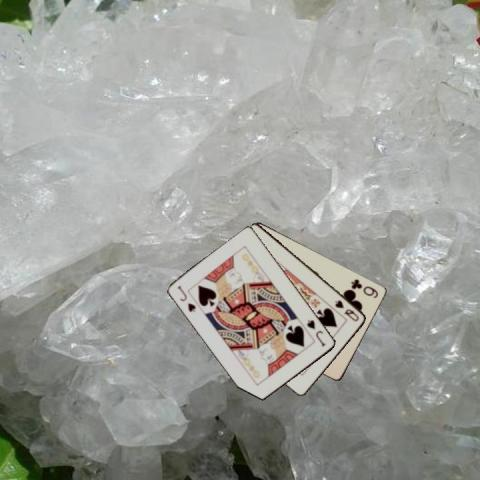6c: (349, 276, 380, 300)
Js: (304, 317, 327, 348), (174, 283, 197, 313)
Qs: (332, 296, 361, 322)
